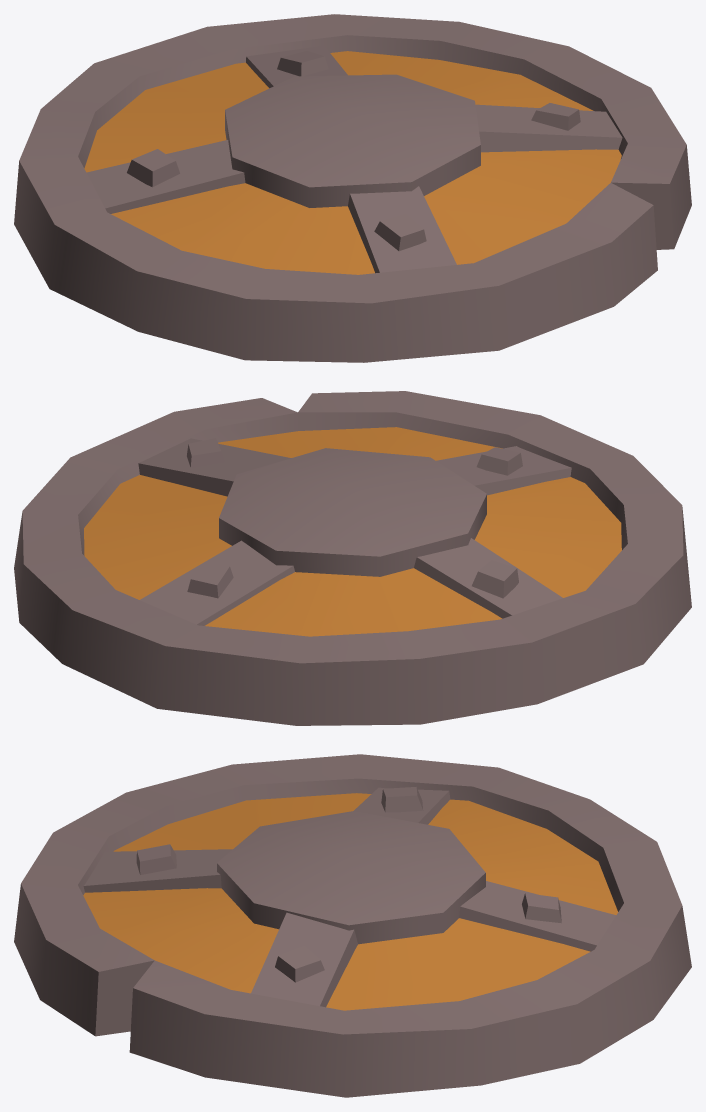
File: Basic Shield.fbx
The picture shows the model from 3 angles, top to bottom: view 1: azimuth 30°, elevation 25°; view 2: azimuth 150°, elevation 25°; view 3: azimuth 270°, elevation 25°; orthographic projection. The views are drawn at different scales.
Visible parts, largest first — view 1: shield01_brown; view 2: shield01_brown; view 3: shield01_brown.
Part boxes in pixels (x1,y1,x2,y2): shield01_brown: (14, 14, 691, 362); shield01_brown: (14, 391, 691, 725); shield01_brown: (14, 754, 691, 1097).
Bounding box in the file's own units: 31.46 × 5.4 × 31.45.
